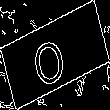O_N: (35, 23, 75, 87)
